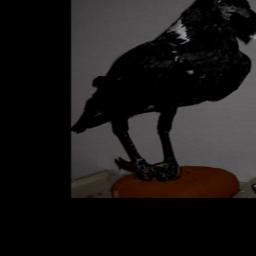Crow: (73, 0, 256, 183)
